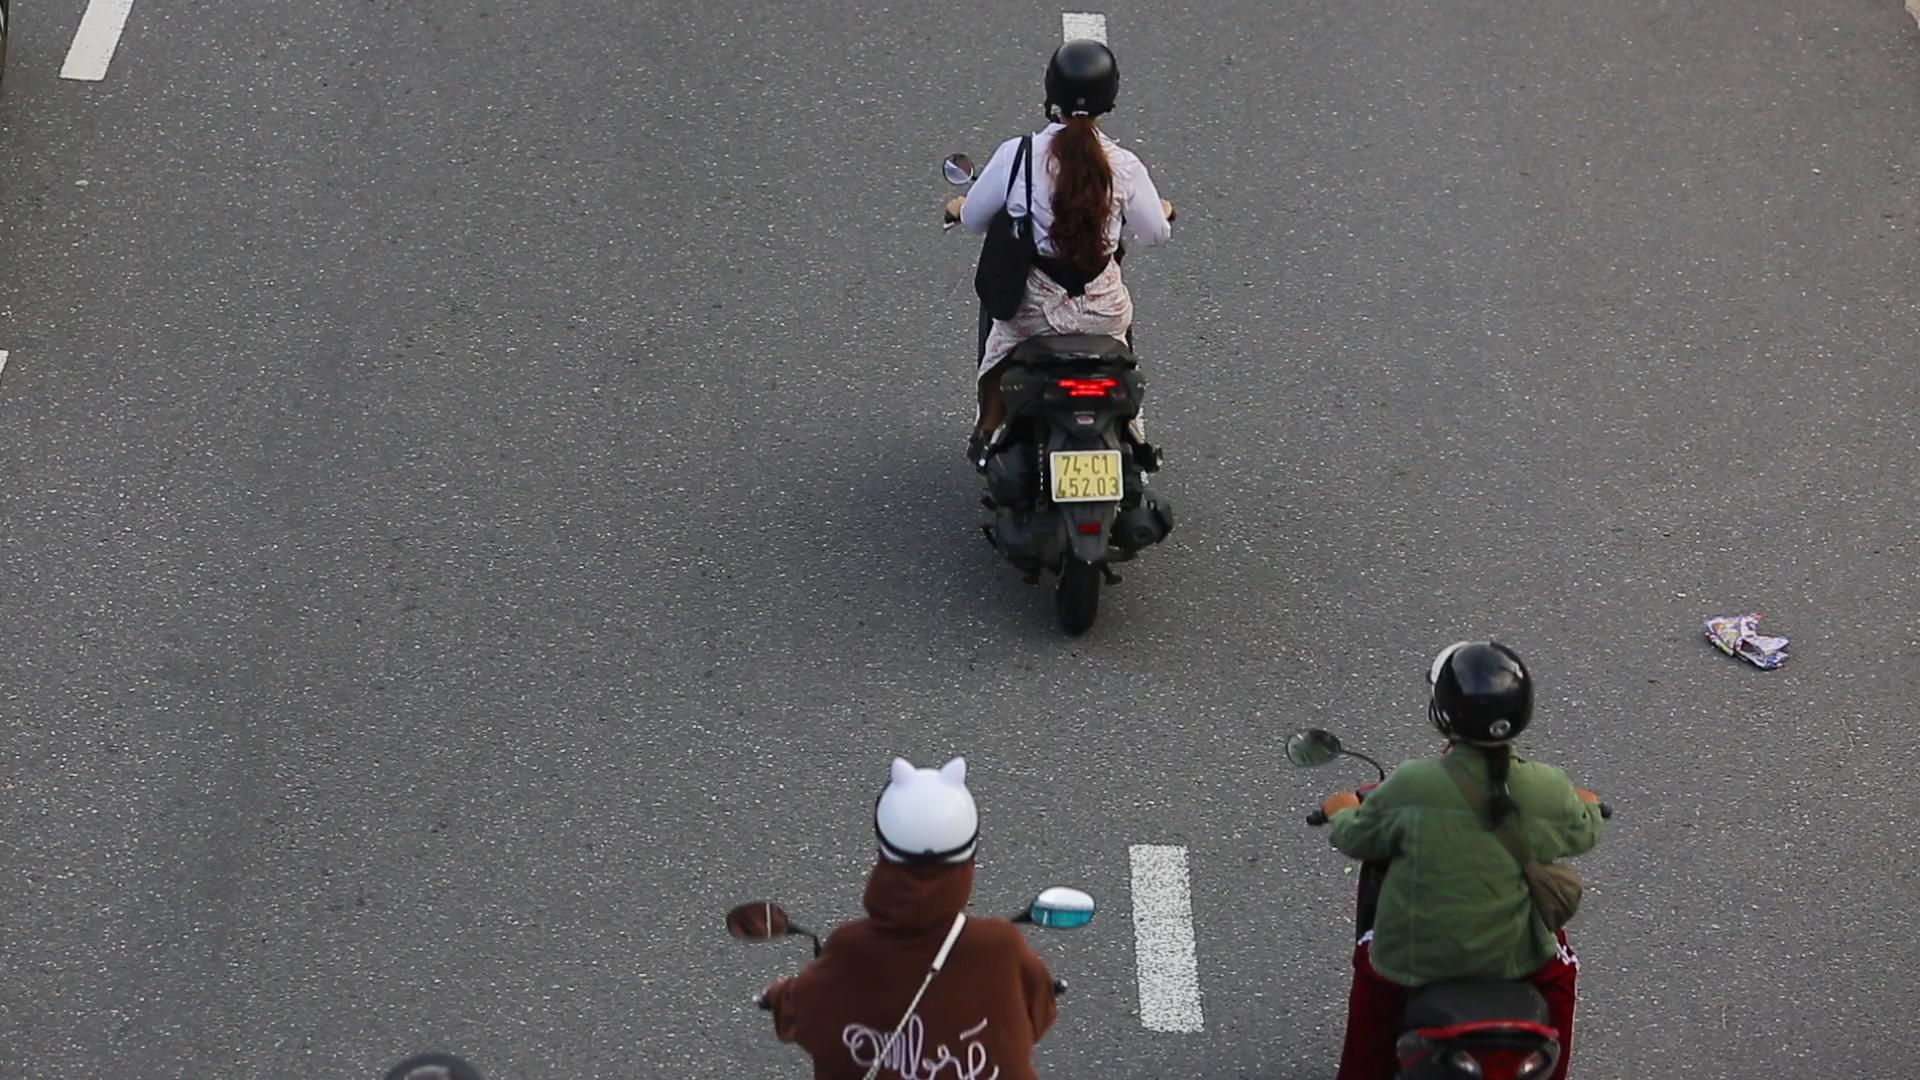motobike: (924, 13, 1204, 658)
